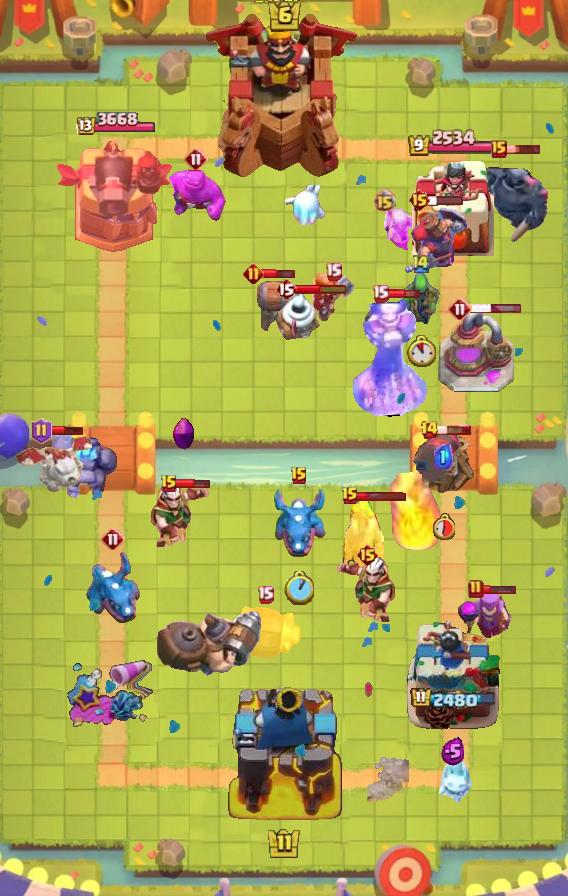bat: (431, 756, 475, 806), (285, 185, 327, 225)
electro-dragon: (351, 295, 429, 423)
electro-spirit: (441, 738, 465, 767), (434, 444, 454, 469)
elixir: (284, 571, 314, 605), (408, 335, 437, 367), (432, 513, 455, 540)
elixir-golem-big: (402, 205, 472, 277)
emote: (295, 283, 348, 295), (470, 302, 522, 314), (357, 490, 407, 501), (387, 287, 422, 301), (261, 268, 296, 281), (505, 143, 542, 155), (428, 194, 464, 206), (436, 424, 472, 436), (176, 478, 211, 490), (483, 583, 518, 595), (49, 425, 85, 436)
fisherman: (365, 756, 409, 804)
giant-snowball: (401, 270, 441, 328)
goblin-drill: (278, 292, 324, 348)
goblin-hut: (340, 496, 384, 579)
golemite: (474, 148, 550, 244)
graveyard: (270, 483, 328, 559), (84, 551, 142, 625)
hog-rider: (309, 273, 357, 323)
king-tower: (205, 11, 363, 181), (223, 680, 345, 826)
knight: (243, 278, 293, 334)
mini-pekka: (11, 432, 99, 492)
pekka: (438, 312, 516, 394)
queen-tower: (404, 617, 502, 731), (412, 156, 494, 256)
rascal-girl: (455, 589, 515, 643)
royal-giant-evolution: (409, 426, 477, 496)
selected: (407, 129, 499, 158), (73, 112, 154, 138), (411, 687, 498, 711)
skeleton-king: (146, 481, 212, 547), (334, 556, 400, 622)
skeleton-king-skill: (173, 417, 195, 451)
text: (184, 147, 208, 171), (448, 297, 472, 321), (101, 527, 125, 551), (409, 188, 432, 212), (356, 543, 379, 567), (32, 418, 53, 444), (372, 188, 395, 211), (275, 277, 297, 301), (243, 264, 264, 285), (411, 253, 431, 275), (420, 420, 439, 440), (290, 466, 308, 486), (160, 474, 178, 494), (341, 486, 359, 506), (325, 262, 343, 281), (257, 584, 275, 603), (371, 285, 389, 303), (468, 579, 484, 599), (491, 140, 507, 158)
the-log: (225, 606, 305, 660)
tornado: (164, 169, 228, 223)
tower-bar: (53, 138, 175, 256)
valkyrie: (389, 469, 447, 555)
valkyrie-evolution: (52, 427, 118, 499)
wizard: (153, 608, 265, 678)
zap: (378, 206, 416, 252)
